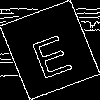E: (24, 25, 75, 80)
